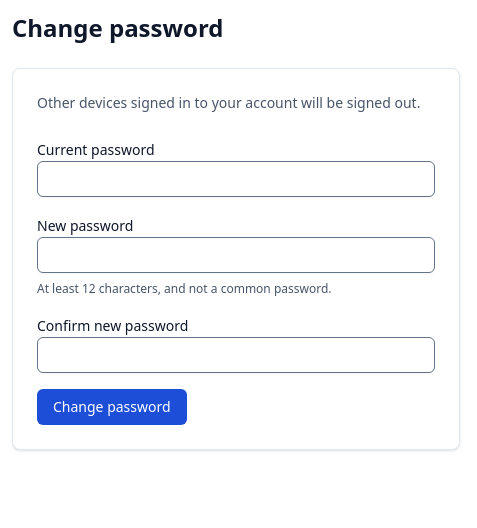
ChangePasswordPage › explains a 422 {"code":"password_unchanged"}
Type "old passphrase 123" into the password field labelled "Current password" at (236, 179), box [37,161,435,197]
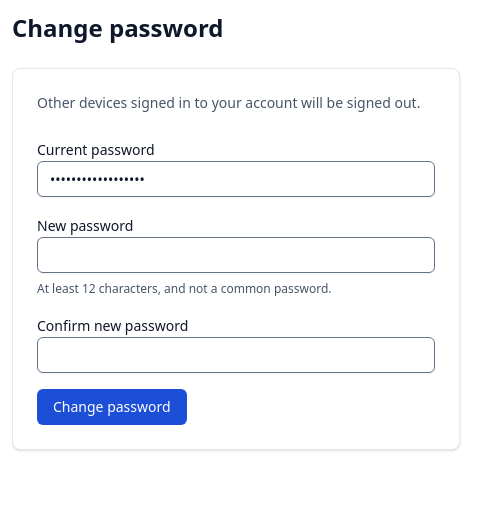
Type "a brand new passphrase" into the password field labelled "New password" at (236, 255), box [37,237,435,273]
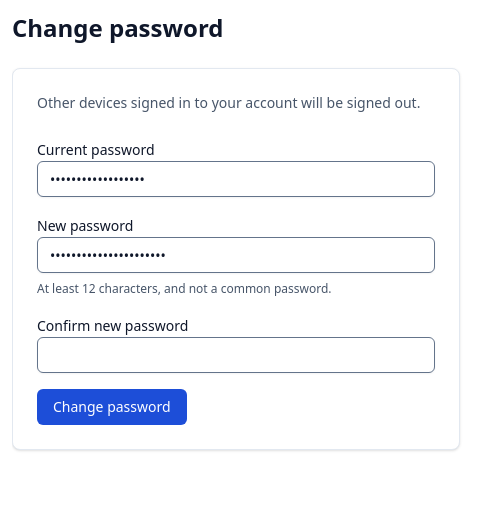
Type "a brand new passphrase" into the password field labelled "Confirm new password" at (236, 355), box [37,337,435,373]
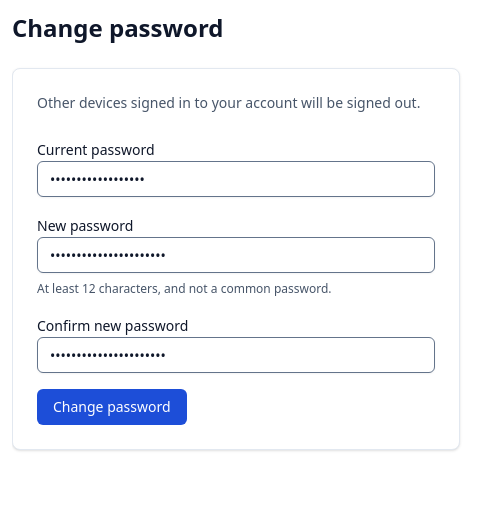
Click the button "Change password" at (112, 407), box [37,389,187,425]
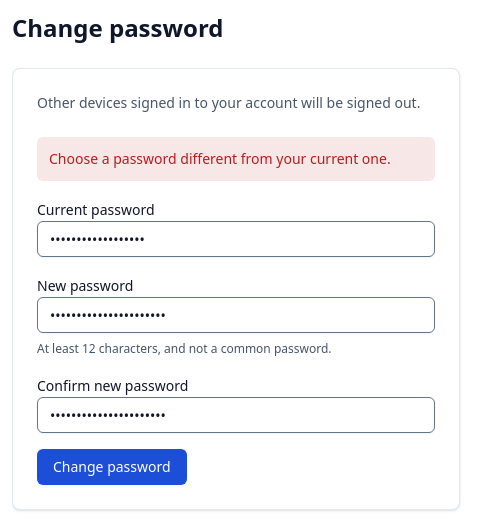
Now the message reads "Choose a password different from your current one.", box [49,149,391,168]
